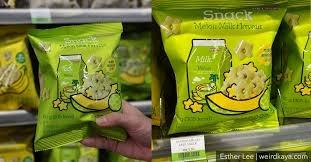snack: (154, 0, 288, 135)
